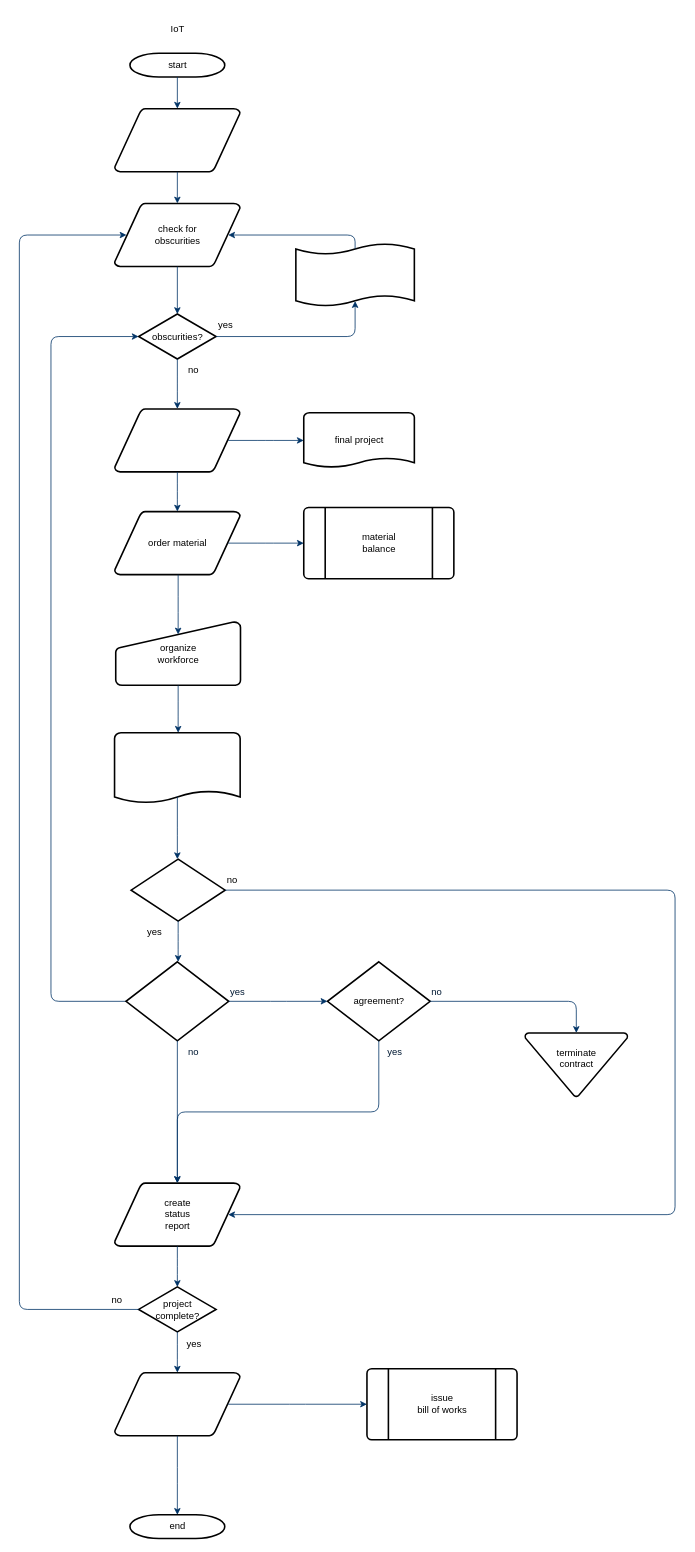
Some shapes in this 695 by 1552 pixel diagram are drawn without their labels. Here are the shapes that lost their labels. From the top down, the centre of each, then its label:
(177,139): 카메라
(355,274): iron out obscurities with investor
(177,440): create material specification
(177,768): create Gantt diagram
(178,890): late project changes?
(177,1001): investor disapproves investment?
(177,1403): create final report
